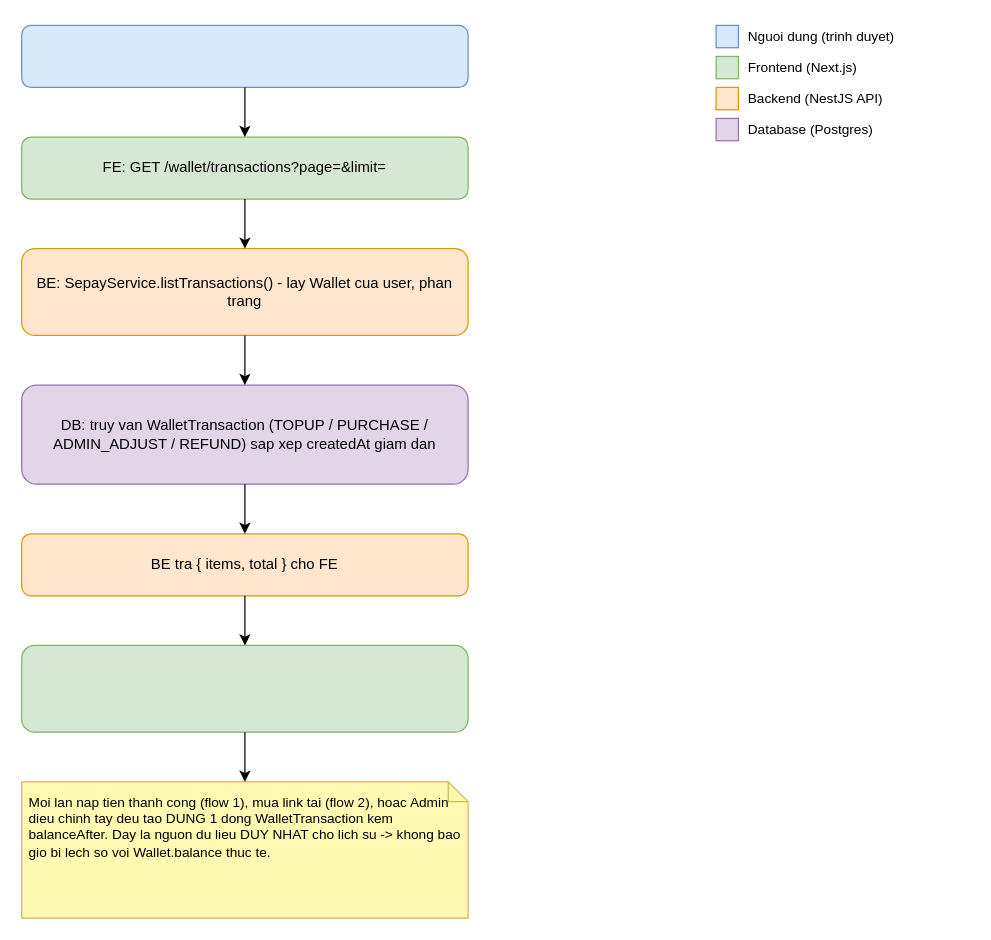
Image size: 991x940. Some labels were removed from this diagram. Here are the shapes that lost their labels. From the top down, the centre of each, then its label:
At (x=244, y=55): "User mo tab 'Vi & Nap tien' (/tai-khoan/vi)".
At (x=244, y=688): "FE hien thi bang lich su: loai giao dich, thoi gian, +/- $P".
